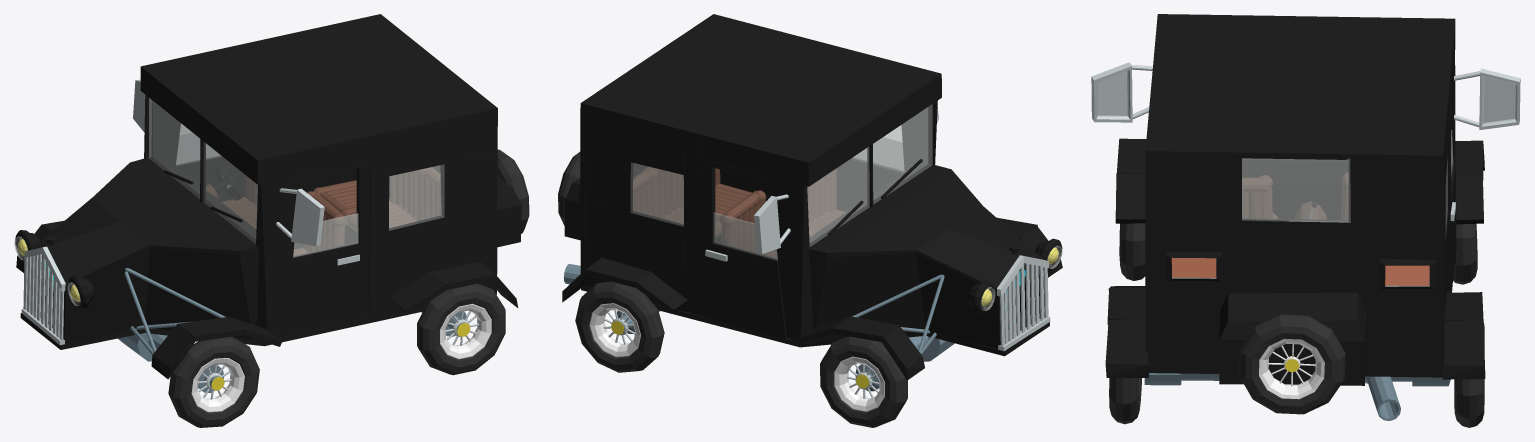
The model's file is car.glb.
3 views of the same model, side by side, from view 1: azimuth 30°, elevation 25°; view 2: azimuth 150°, elevation 25°; view 3: azimuth 270°, elevation 25° (orthographic). The views are drawn at different scales.
Parts seen in each view (by area): view 1: group1643766101; view 2: group1643766101; view 3: group1643766101.
Part boxes in pixels (x1,y1,x2,y2): group1643766101: [14, 14, 529, 427]; group1643766101: [558, 14, 1062, 427]; group1643766101: [1091, 14, 1520, 427].
Bounding box in the file's own units: 4.6 × 2.37 × 3.1.
